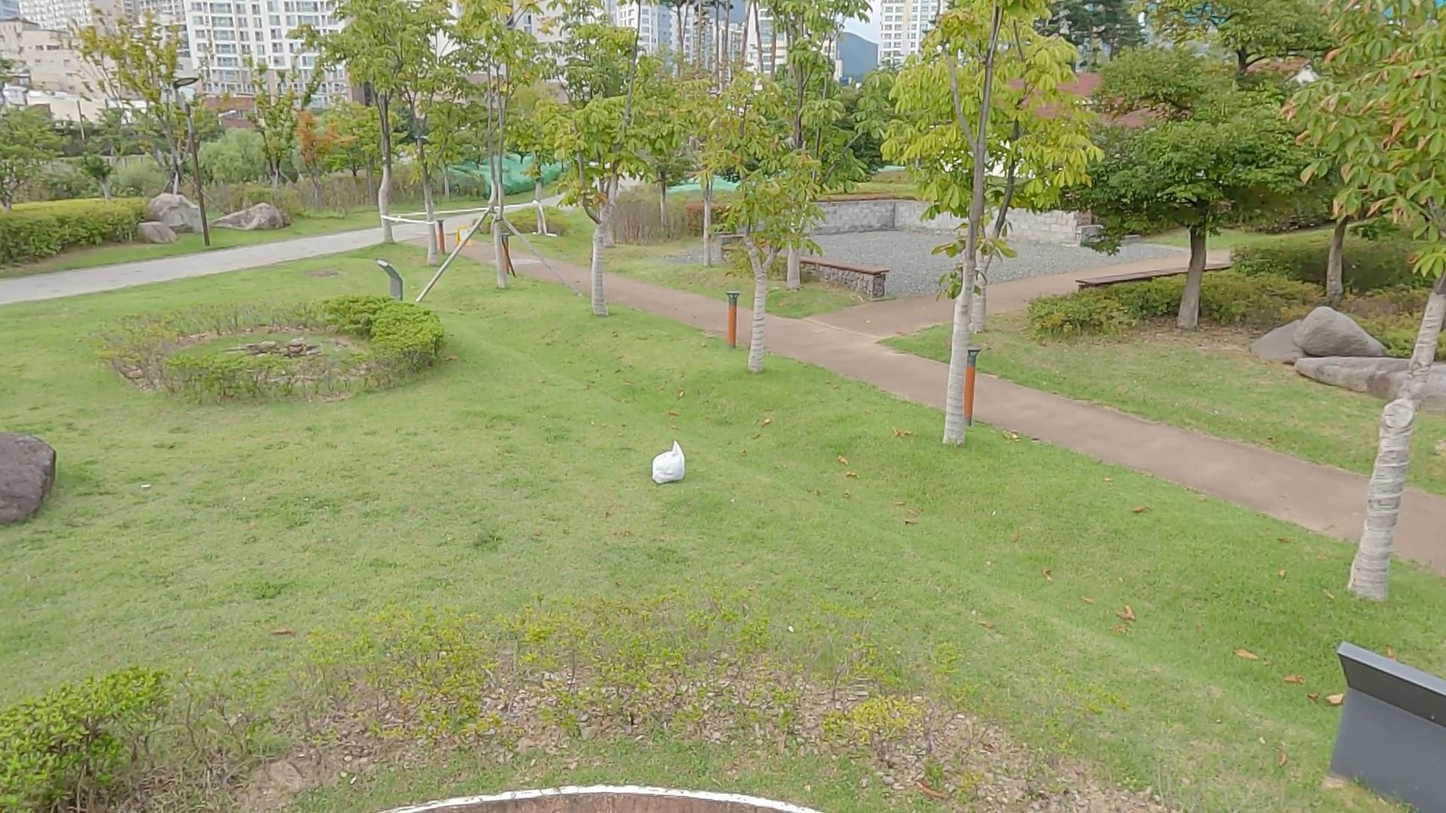trash: (636, 437, 693, 498)
